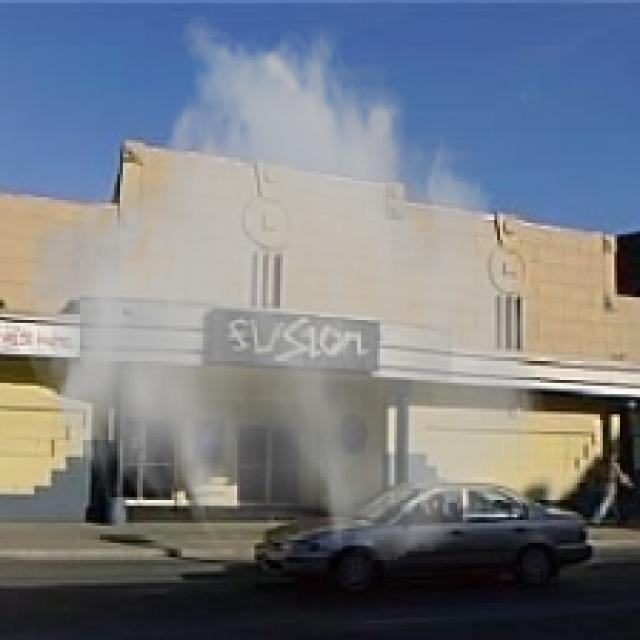Smoke: (17, 11, 549, 566)
